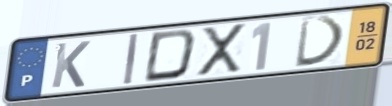1: (250, 21, 274, 73)
D: (141, 27, 200, 84), (293, 14, 349, 70)
I: (122, 32, 141, 86)
K: (48, 39, 93, 90)
X: (196, 21, 248, 79)
